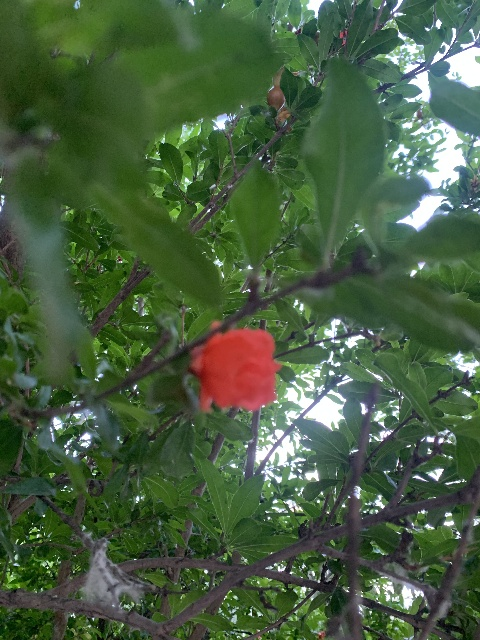early-fruit: (265, 65, 300, 111)
flower: (189, 325, 283, 413)
